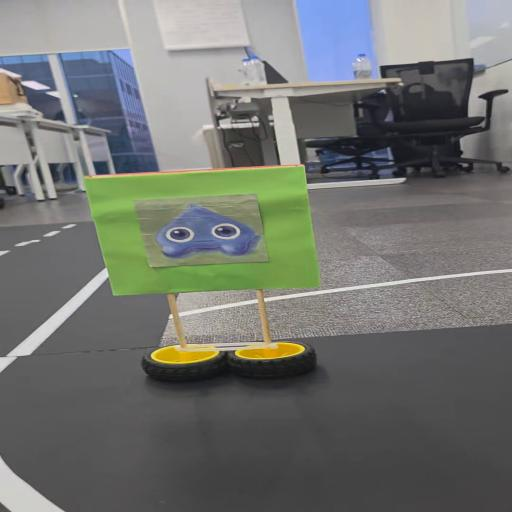Sign_B: (73, 163, 334, 394)
